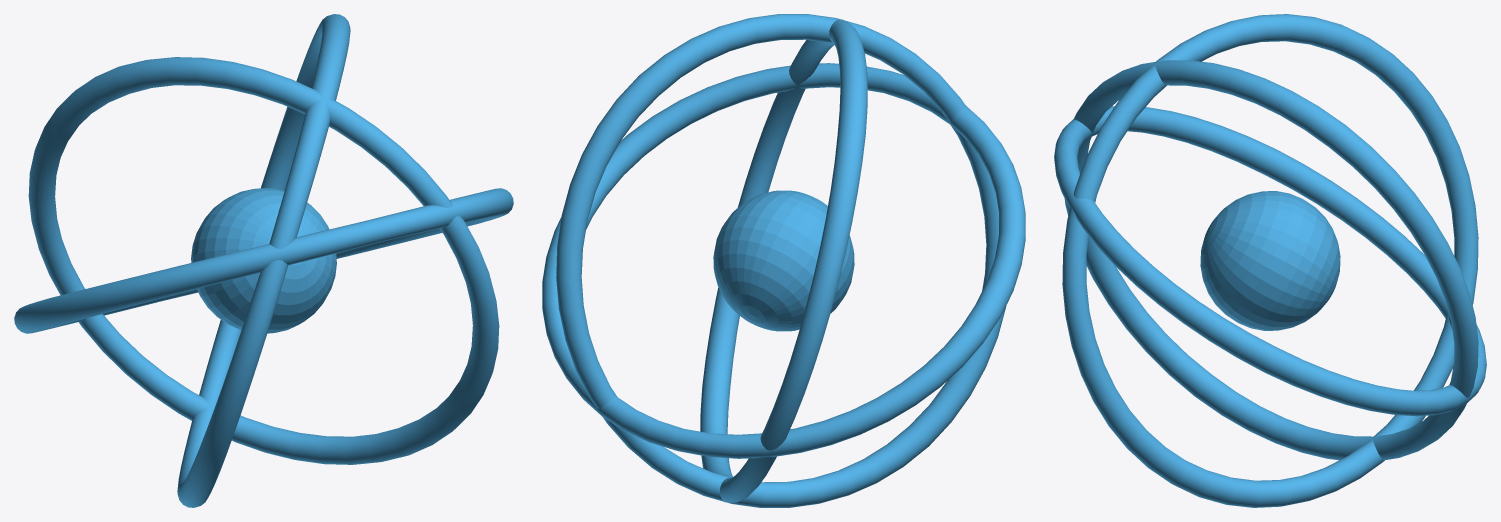
File: react.gltf
3 renders of one model, left to right at view 1: azimuth 30°, elevation 25°; view 2: azimuth 150°, elevation 25°; view 3: azimuth 270°, elevation 25°, orthographic. The views are drawn at different scales.
Parts seen in each view (by area): view 1: BezierCircle.001, BezierCircle, BezierCircle.002, Sphere.009; view 2: BezierCircle, BezierCircle.002, BezierCircle.001, Sphere.009; view 3: BezierCircle.001, BezierCircle, BezierCircle.002, Sphere.009.
Boxes of the visible parts, x1,y1,x2,y2 form: BezierCircle.001: [28, 57, 499, 464]; BezierCircle: [177, 14, 350, 507]; BezierCircle.002: [14, 188, 513, 333]; Sphere.009: [191, 188, 336, 333]; BezierCircle: [556, 14, 1006, 507]; BezierCircle.002: [542, 63, 1025, 458]; BezierCircle.001: [700, 19, 867, 502]; Sphere.009: [713, 190, 854, 331]; BezierCircle.001: [1062, 14, 1478, 507]; BezierCircle: [1064, 60, 1478, 460]; BezierCircle.002: [1054, 106, 1486, 416]; Sphere.009: [1200, 191, 1340, 330].
Size of the model in its own units: 1.06 by 1.01 by 0.9246.
